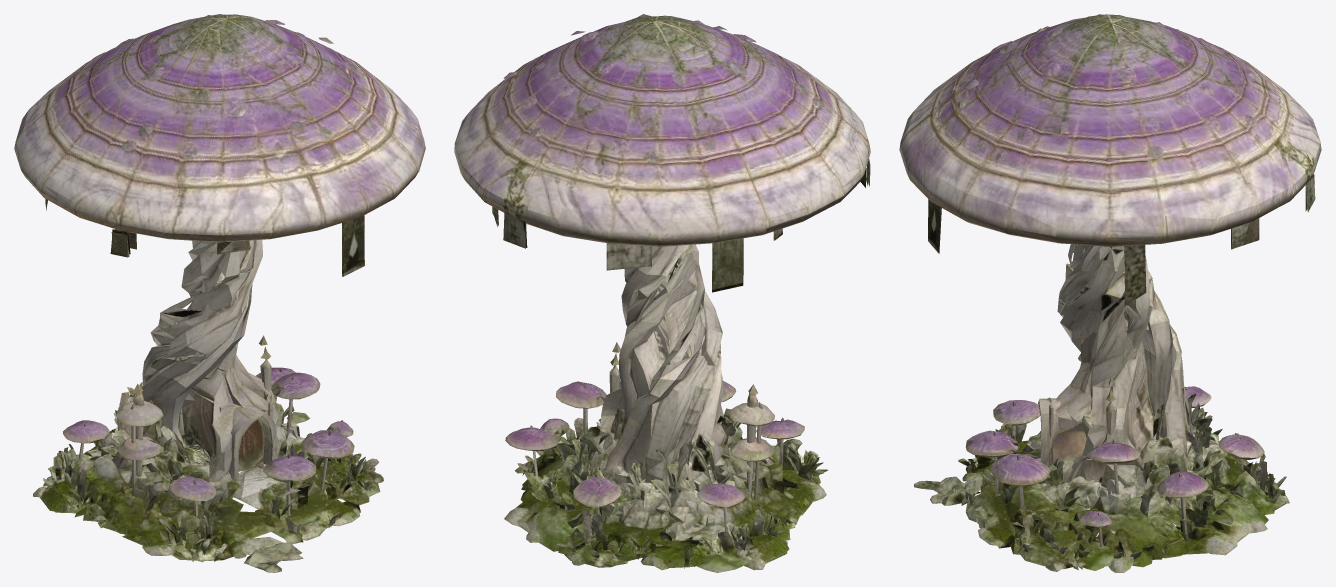
File: The_Enchanted_Mushroo.glb
3 views of the same model, side by side, from view 1: azimuth 30°, elevation 25°; view 2: azimuth 150°, elevation 25°; view 3: azimuth 270°, elevation 25° (orthographic). The views are drawn at different scales.
Parts seen in each view (by area): view 1: The_Enchanted_Mushroo; view 2: The_Enchanted_Mushroo; view 3: The_Enchanted_Mushroo.
Boxes of the visible parts, bbox=[...] form: The_Enchanted_Mushroo: bbox=[14, 14, 425, 572]; The_Enchanted_Mushroo: bbox=[454, 14, 870, 572]; The_Enchanted_Mushroo: bbox=[899, 14, 1321, 572].
Bounding box in the file's own units: 0.7852 × 0.998 × 0.7833.
1 material, 1 textured.
